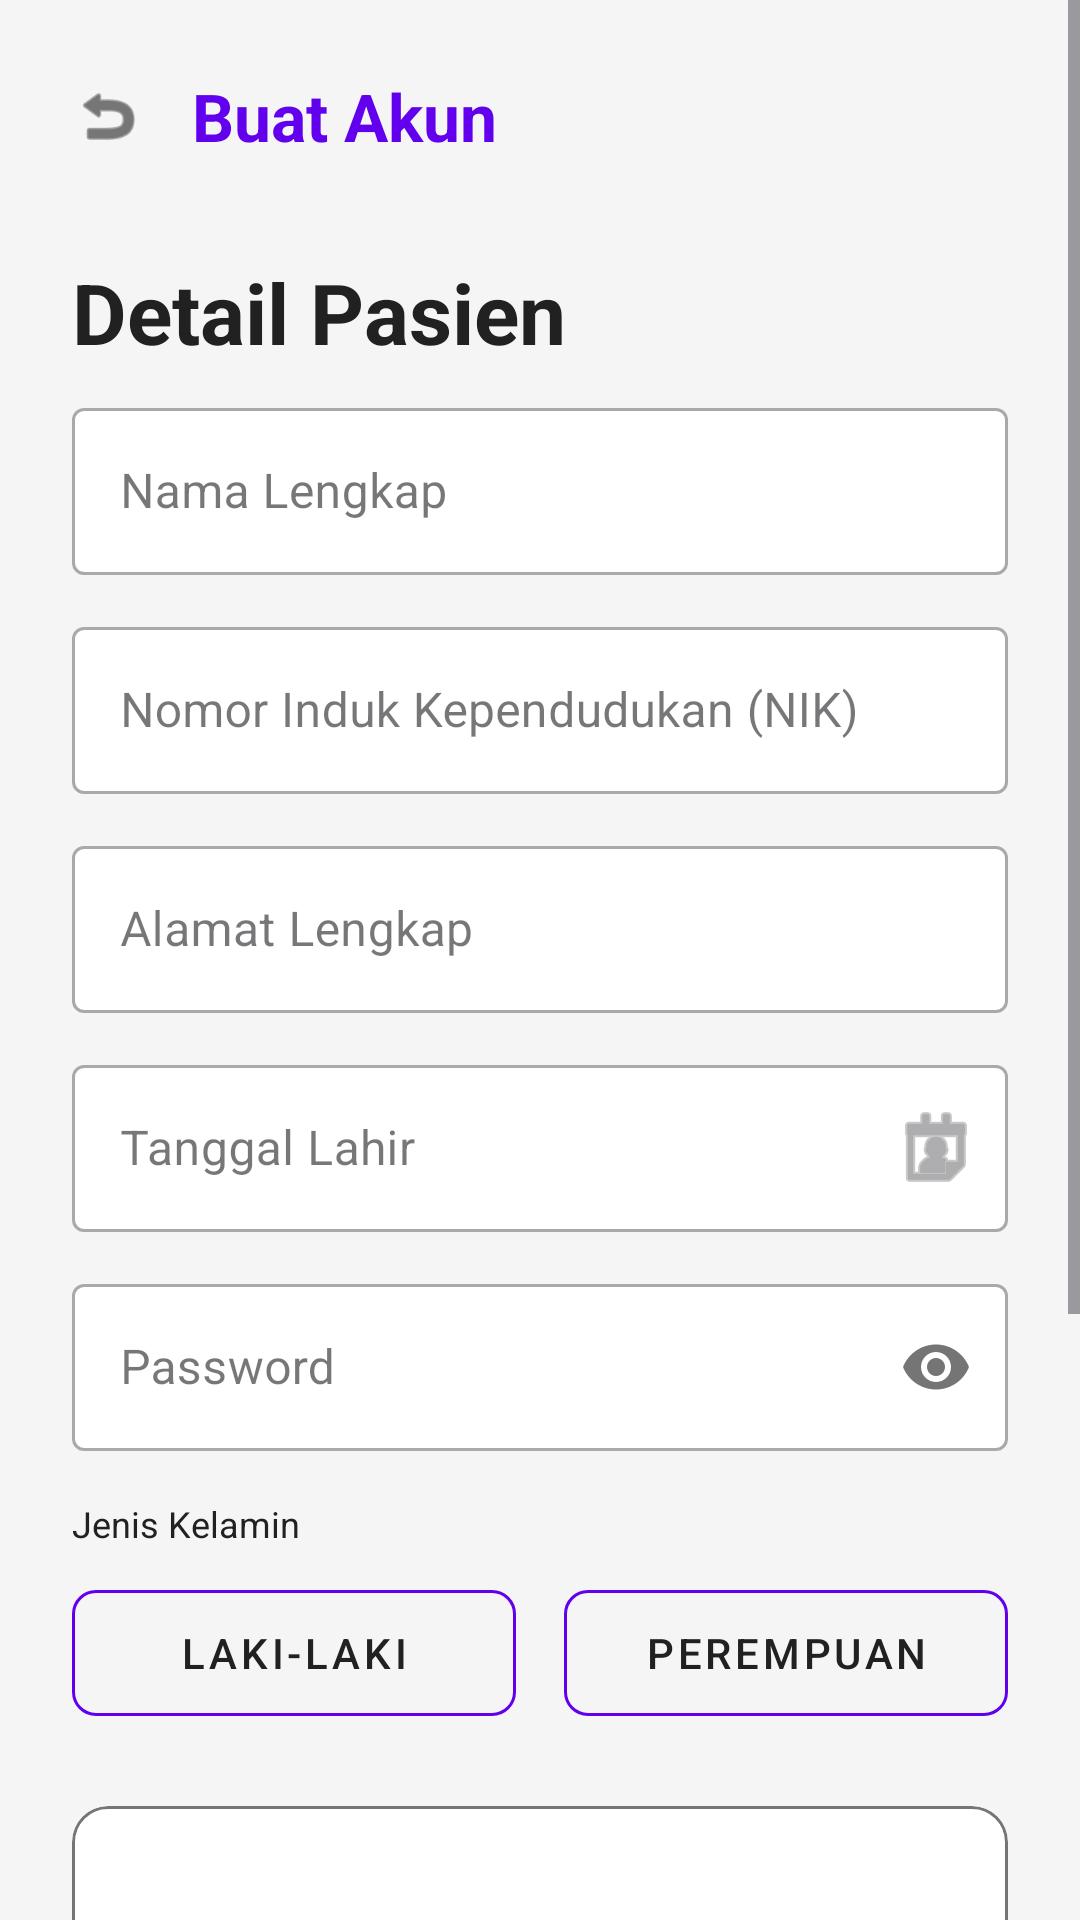

Locate icon controls on the screen. Image size 1080px x 1920px, boxes as (x1, y1, x2, y2).
Back: (83, 93, 135, 140)
